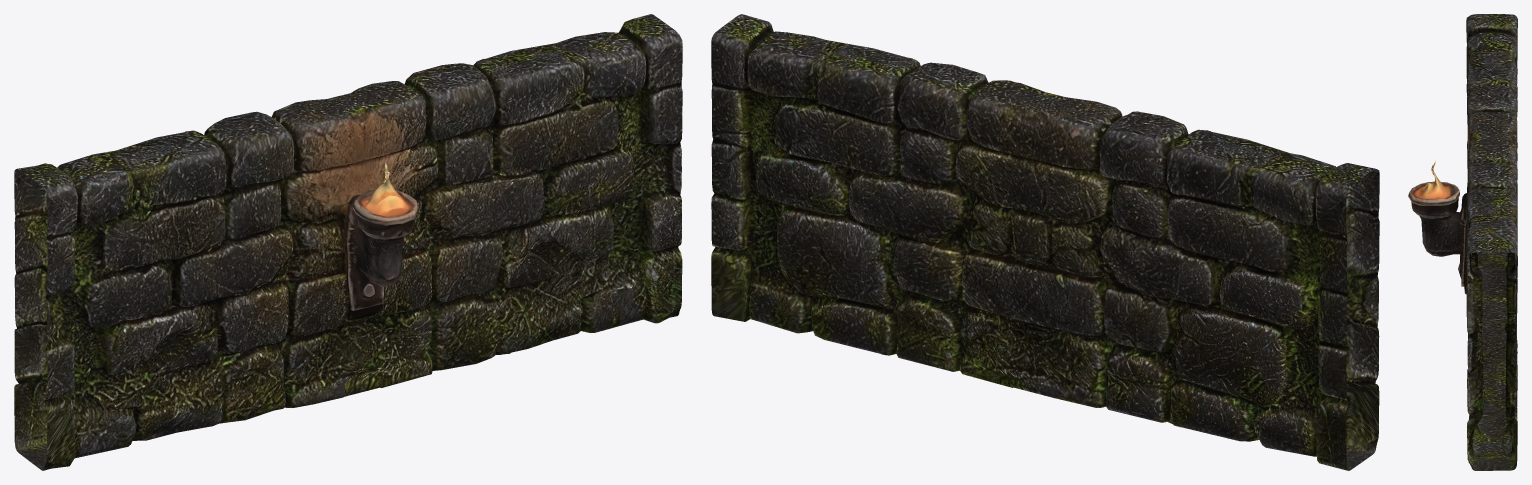
File: tile_wall.glb
3 views of the same model, side by side, from view 1: azimuth 30°, elevation 25°; view 2: azimuth 150°, elevation 25°; view 3: azimuth 270°, elevation 25° (orthographic). The views are drawn at different scales.
Parts seen in each view (by area): view 1: seg0, seg2, seg1; view 2: seg0, seg2, seg1; view 3: seg2, seg1, seg0.
Part boxes in pixels (x1,y1,x2,y2): seg0: (14,99,378,470); seg2: (357,14,682,387); seg1: (185,59,514,426); seg0: (1048,99,1379,470); seg2: (711,14,1038,387); seg1: (879,57,1210,427); seg2: (1416,141,1517,470); seg1: (1408,79,1517,401); seg0: (1419,14,1517,337).
Size of the model in its own units: 1.5 by 0.6421 by 0.2922.
1 material, 1 textured.
